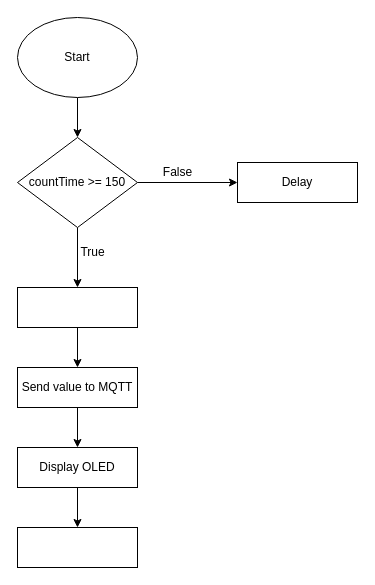
This 375x585 diagram has some shape labels left out. The shapes that lost their labels are listed below. From the top down, each one's box as (x1, y1, x2, y2) in pixels, then its label:
(16, 286, 138, 328): Calculate average data
(16, 526, 138, 568): Reset accumulated data
